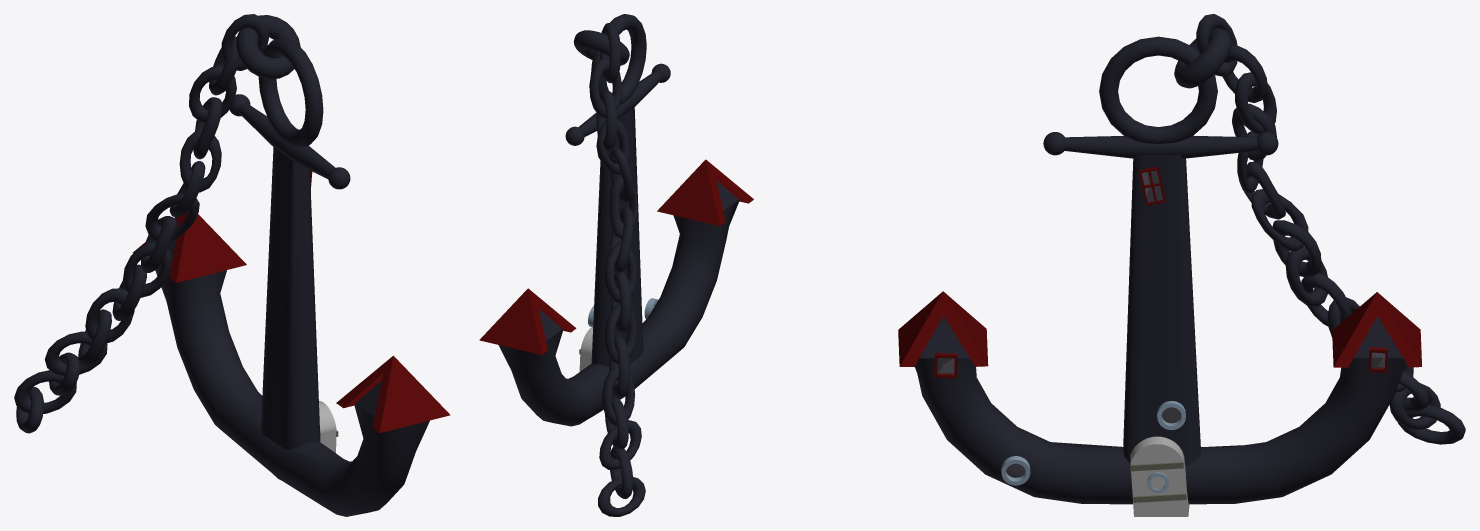
File: sb_krabs.fbx
3 renders of one model, left to right at view 1: azimuth 30°, elevation 25°; view 2: azimuth 150°, elevation 25°; view 3: azimuth 270°, elevation 25°, orthographic. The views are drawn at different scales.
Parts seen in each view (by area): view 1: catherine_bikinibottomCombined1:pCube6; view 2: catherine_bikinibottomCombined1:pCube6; view 3: catherine_bikinibottomCombined1:pCube6.
Part boxes in pixels (box(x1,y1,x2,y2)): catherine_bikinibottomCombined1:pCube6: box(14, 14, 450, 516); catherine_bikinibottomCombined1:pCube6: box(479, 14, 753, 516); catherine_bikinibottomCombined1:pCube6: box(898, 14, 1465, 516).
Bounding box in the file's own units: 92.52 × 175 × 184.
